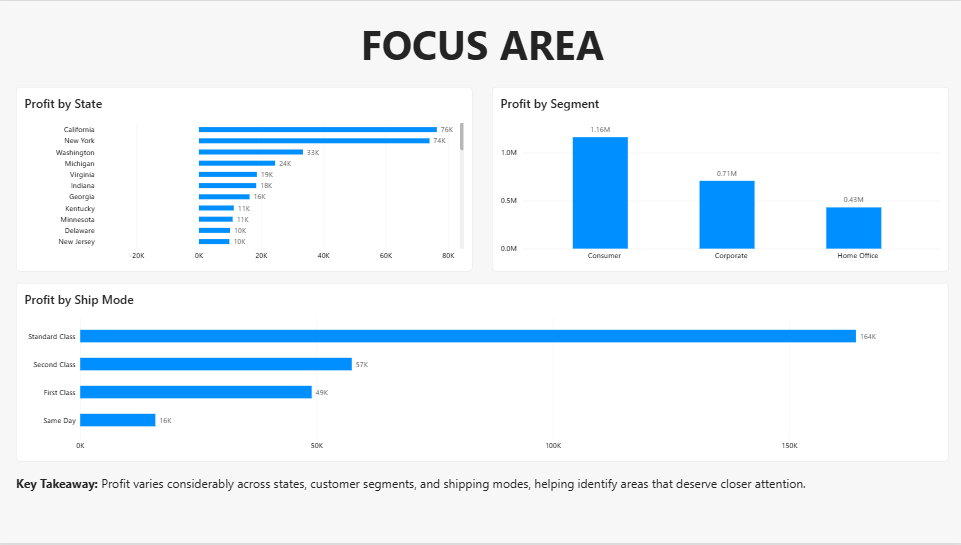

What the dashboard file says about the page in this screenshot:
{"tool":"powerbi","page":{"name":"4-Focus Area","canvas":[1920,1080],"ordinal":4},"visuals":[{"type":"textbox","box":[35.9,31.9,1860.2,119.6],"z":0},{"type":"clusteredBarChart","title":" Profit by State","fields":{"Category":["SampleSuperstore.State"],"Y":["Sum(SampleSuperstore.Profit)"]},"box":[36.8,171.9,910,368.3],"z":1},{"type":"clusteredColumnChart","title":"Profit by Segment","fields":{"Category":["SampleSuperstore.Segment"],"Y":["Sum(SampleSuperstore.Sales)"]},"box":[984.6,171.9,910.9,368.3],"z":2},{"type":"clusteredBarChart","title":" Profit by Ship Mode","fields":{"Category":["SampleSuperstore.Ship Mode"],"Y":["Sum(SampleSuperstore.Profit)"]},"box":[36.8,562.3,1858.6,356],"z":3},{"type":"textbox","box":[36.8,945.3,1858.6,105.6],"z":4}]}

Visuals, with their boxes in screenshot pixels (x1, y1, x2, y2), scaled from the page's 1920x1080 canvas onto the 961x545 screenshot:
textbox: region(18, 16, 949, 76)
" Profit by State" clusteredBarChart: region(18, 87, 474, 273)
"Profit by Segment" clusteredColumnChart: region(493, 87, 949, 273)
" Profit by Ship Mode" clusteredBarChart: region(18, 284, 949, 463)
textbox: region(18, 477, 949, 530)
